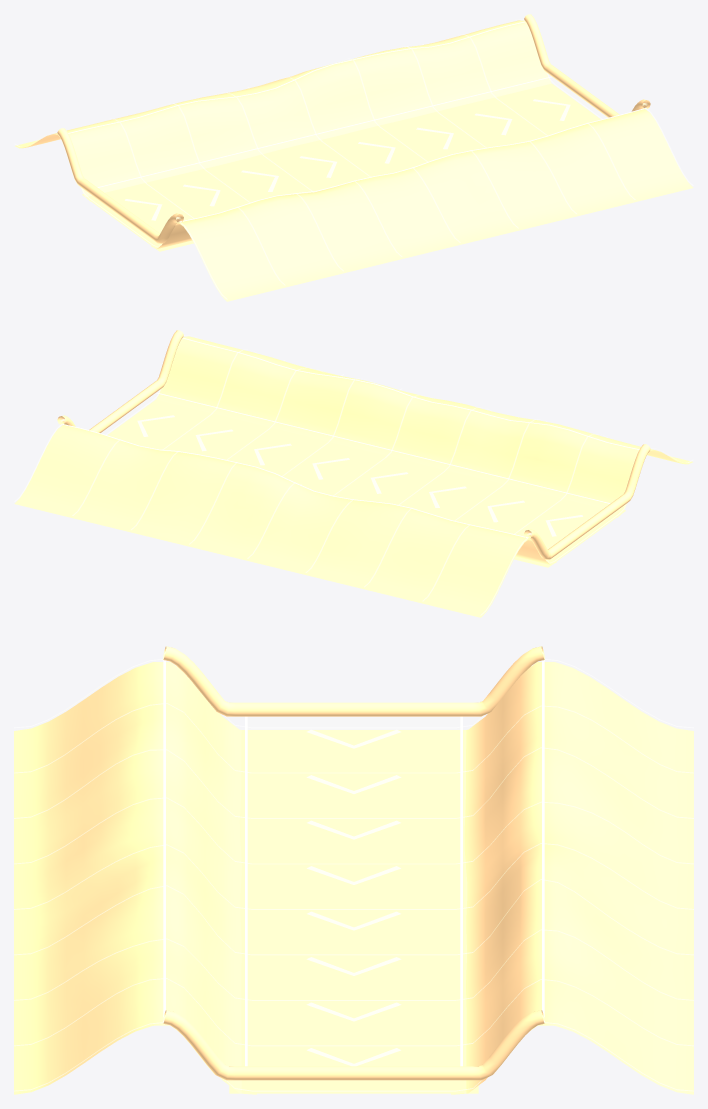
File: stream_hologram.glb
3 renders of one model, top to bottom at view 1: azimuth 30°, elevation 25°; view 2: azimuth 150°, elevation 25°; view 3: azimuth 270°, elevation 25°, orthographic. The views are drawn at different scales.
Visible parts, largest first — view 1: StreamHologram_BankR, StreamHologram_BankL, StreamHologram_Bed, StreamHologram_Port_in_Ring1, StreamHologram_Port_out_Ring1, StreamHologram_CrestR, StreamHologram_CrestL, StreamHologram_EdgeL; view 2: StreamHologram_BankL, StreamHologram_BankR, StreamHologram_Bed, StreamHologram_Port_in_Ring1, StreamHologram_Port_out_Ring1, StreamHologram_CrestL, StreamHologram_CrestR, StreamHologram_EdgeR; view 3: StreamHologram_BankL, StreamHologram_BankR, StreamHologram_Bed, StreamHologram_Port_out_Ring1, StreamHologram_Port_in_Ring1, StreamHologram_CrestL, StreamHologram_CrestR, StreamHologram_Rib3, StreamHologram_Rib5, StreamHologram_Rib1, StreamHologram_EdgeL, StreamHologram_EdgeR (+6 smaller).
Part boxes in pixels (x1,y1,x2,y2): StreamHologram_BankR: (151, 109, 693, 301); StreamHologram_BankL: (15, 20, 551, 201); StreamHologram_Bed: (82, 83, 600, 251); StreamHologram_Port_in_Ring1: (57, 128, 183, 243); StreamHologram_Port_out_Ring1: (524, 14, 650, 117); StreamHologram_CrestR: (180, 108, 646, 221); StreamHologram_CrestL: (68, 21, 525, 133); StreamHologram_EdgeL: (97, 76, 551, 187); StreamHologram_BankL: (14, 425, 556, 617); StreamHologram_BankR: (156, 336, 692, 517); StreamHologram_Bed: (107, 399, 625, 567); StreamHologram_Port_in_Ring1: (524, 444, 650, 559); StreamHologram_Port_out_Ring1: (57, 330, 183, 432); StreamHologram_CrestL: (61, 424, 527, 537); StreamHologram_CrestR: (182, 337, 639, 449); StreamHologram_EdgeR: (156, 392, 610, 503); StreamHologram_BankL: (451, 662, 693, 1094); StreamHologram_BankR: (14, 662, 256, 1094); StreamHologram_Bed: (229, 730, 478, 1093); StreamHologram_Port_out_Ring1: (163, 1010, 544, 1080); StreamHologram_Port_in_Ring1: (163, 646, 544, 716); StreamHologram_CrestL: (542, 660, 544, 1022); StreamHologram_CrestR: (163, 660, 165, 1022); StreamHologram_Rib3: (14, 797, 693, 864); StreamHologram_Rib5: (14, 879, 693, 955); StreamHologram_Rib1: (14, 703, 693, 773); StreamHologram_EdgeL: (460, 716, 462, 1066); StreamHologram_EdgeR: (245, 716, 247, 1066).
Size of the model in its own units: 4.07 by 0.4339 by 3.16.
